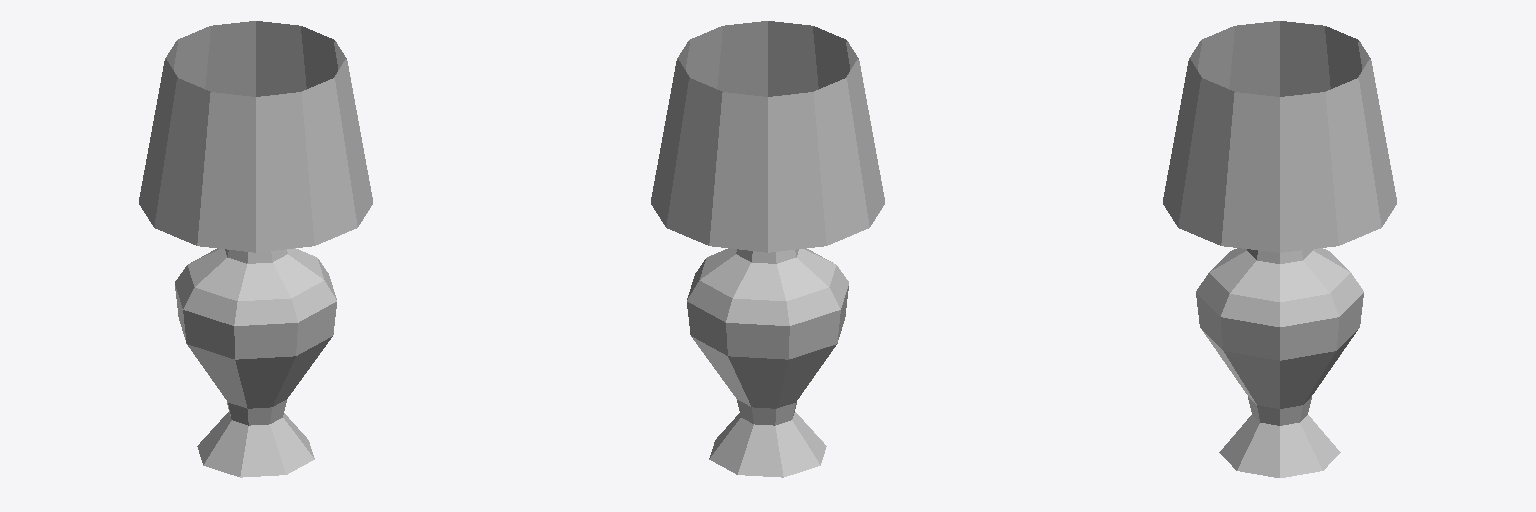
File: lamp_001.obj
3 views of the same model, side by side, from view 1: azimuth 30°, elevation 25°; view 2: azimuth 150°, elevation 25°; view 3: azimuth 270°, elevation 25° (orthographic).
Parts seen in each view (by area): view 1: lamp_001; view 2: lamp_001; view 3: lamp_001.
Part boxes in pixels (bbox=[...]): lamp_001: bbox=[139, 21, 372, 477]; lamp_001: bbox=[651, 21, 884, 477]; lamp_001: bbox=[1163, 21, 1396, 477].
Size of the model in its own units: 0.3019 by 0.5576 by 0.3019.